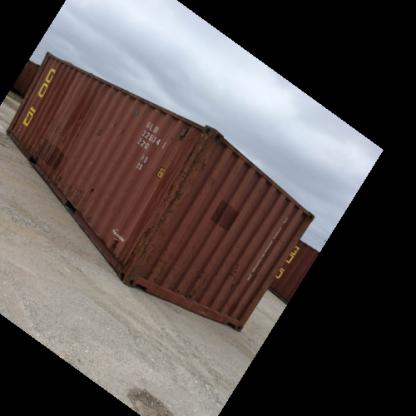Damage: (153, 132, 211, 208), (28, 110, 68, 158), (127, 212, 164, 254), (188, 256, 215, 300), (107, 232, 126, 250), (90, 121, 108, 136), (85, 179, 99, 197)
